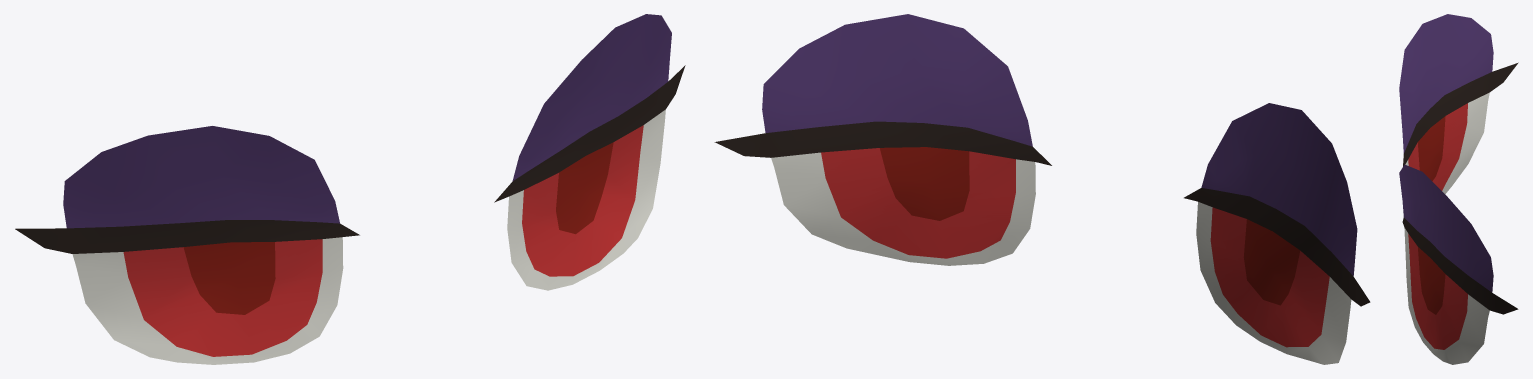
File: Eye_Red_8.fbx
3 renders of one model, left to right at view 1: azimuth 30°, elevation 25°; view 2: azimuth 150°, elevation 25°; view 3: azimuth 270°, elevation 25°, orthographic. The views are drawn at different scales.
Parts seen in each view (by area): view 1: Eye_Red_8; view 2: Eye_Red_8; view 3: Eye_Red_8.
Part boxes in pixels (x1,y1,x2,y2): Eye_Red_8: (15, 14, 685, 364); Eye_Red_8: (714, 14, 1370, 364); Eye_Red_8: (1399, 14, 1518, 364).
Size of the model in its own units: 41.23 by 14.51 by 8.45.
